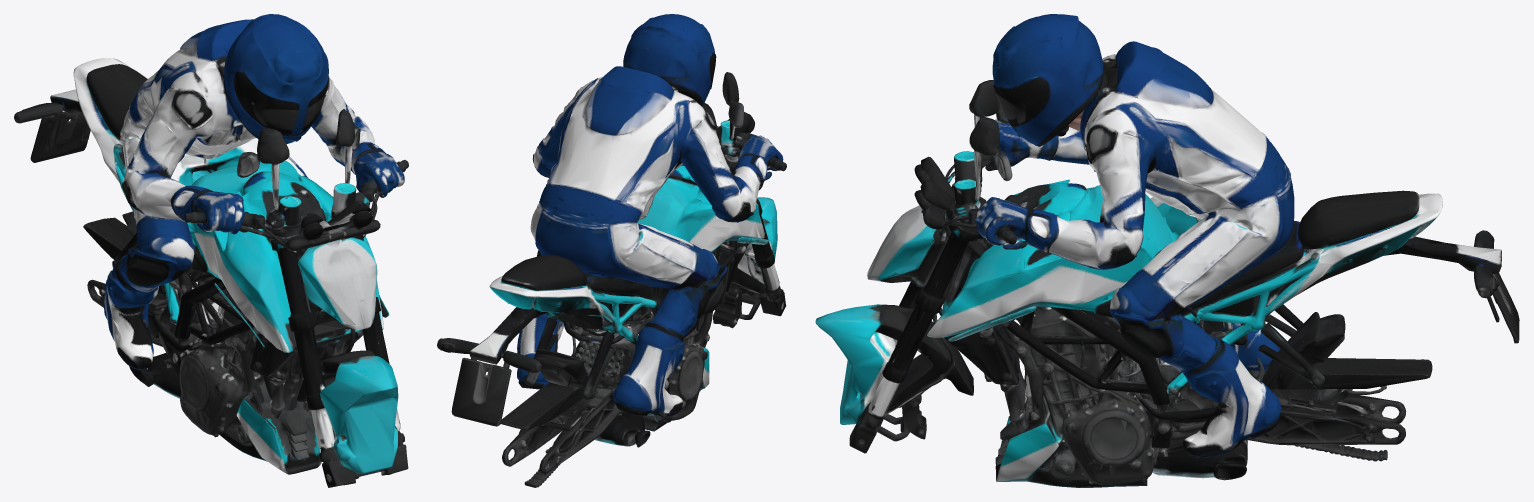
Rendered from 2_nowheel.glb.
The picture shows the model from 3 angles, left to right: view 1: azimuth 30°, elevation 25°; view 2: azimuth 150°, elevation 25°; view 3: azimuth 270°, elevation 25°; orthographic projection. The views are drawn at different scales.
Visible parts, largest first — view 1: Mesh_0; view 2: Mesh_0; view 3: Mesh_0.
Part boxes in pixels (box(x1,y1,x2,y2)): Mesh_0: box(14, 14, 408, 487); Mesh_0: box(437, 14, 786, 487); Mesh_0: box(815, 14, 1519, 487).
Bounding box in the file's own units: 0.825 × 1.4 × 1.96.
1 material, 1 textured.
